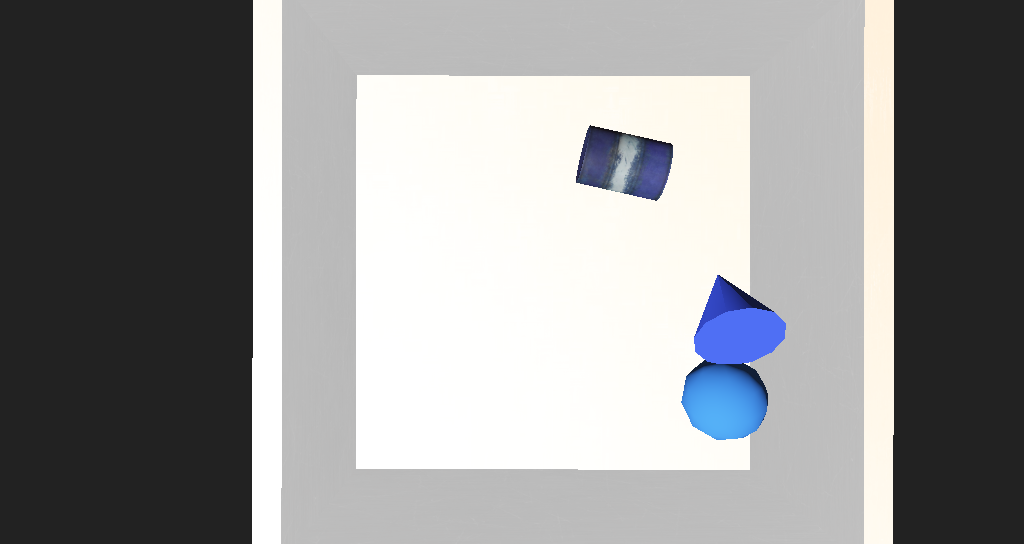cone: (522, 188, 596, 231)
cylinder: (603, 253, 677, 320)
sphere: (600, 310, 667, 358)
